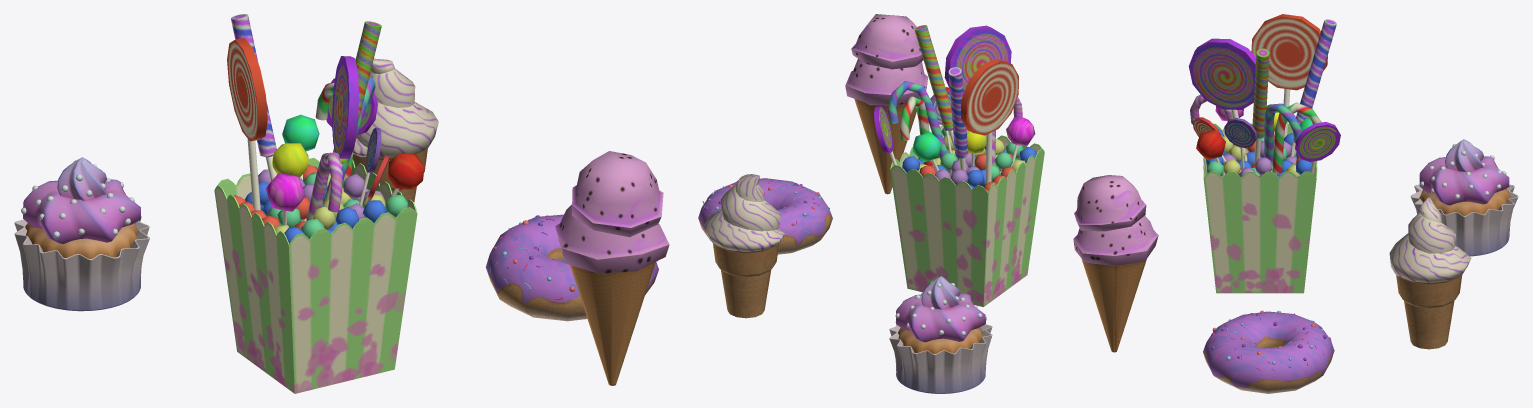
The model's file is low-poly-sweets-pack-f29161.glb.
3 renders of one model, left to right at view 1: azimuth 30°, elevation 25°; view 2: azimuth 150°, elevation 25°; view 3: azimuth 270°, elevation 25°, orthographic. The views are drawn at different scales.
Visible parts, largest first — view 1: PropMesh; view 2: PropMesh; view 3: PropMesh.
Part boxes in pixels (left/top/right/bottom): PropMesh: left=14, top=14, right=669, bottom=393; PropMesh: left=698, top=14, right=1044, bottom=393; PropMesh: left=1073, top=14, right=1518, bottom=393.
Bounding box in the file's own units: 0.7134 × 0.45 × 0.7297.
Materials: 5 (5 with a texture image).
